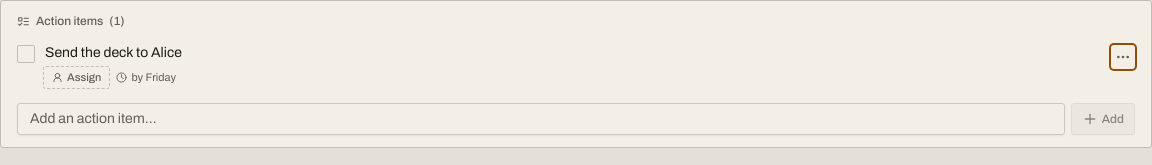
Test case: ActionItemsSection (specs/0034) › dismisses an extracted item from the overflow menu and hides it
Press Enter in the button named "options for", box [1111, 45, 1135, 69]
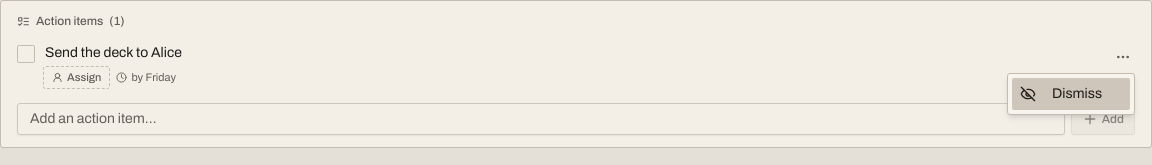
Click the menu item "Dismiss" at (1071, 94), box [1012, 78, 1130, 110]
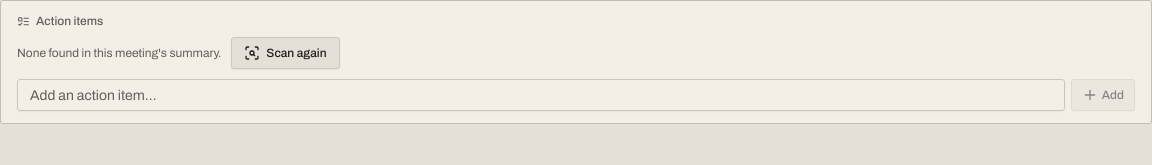
Expected: the button "Send the deck to Alice" is gone
